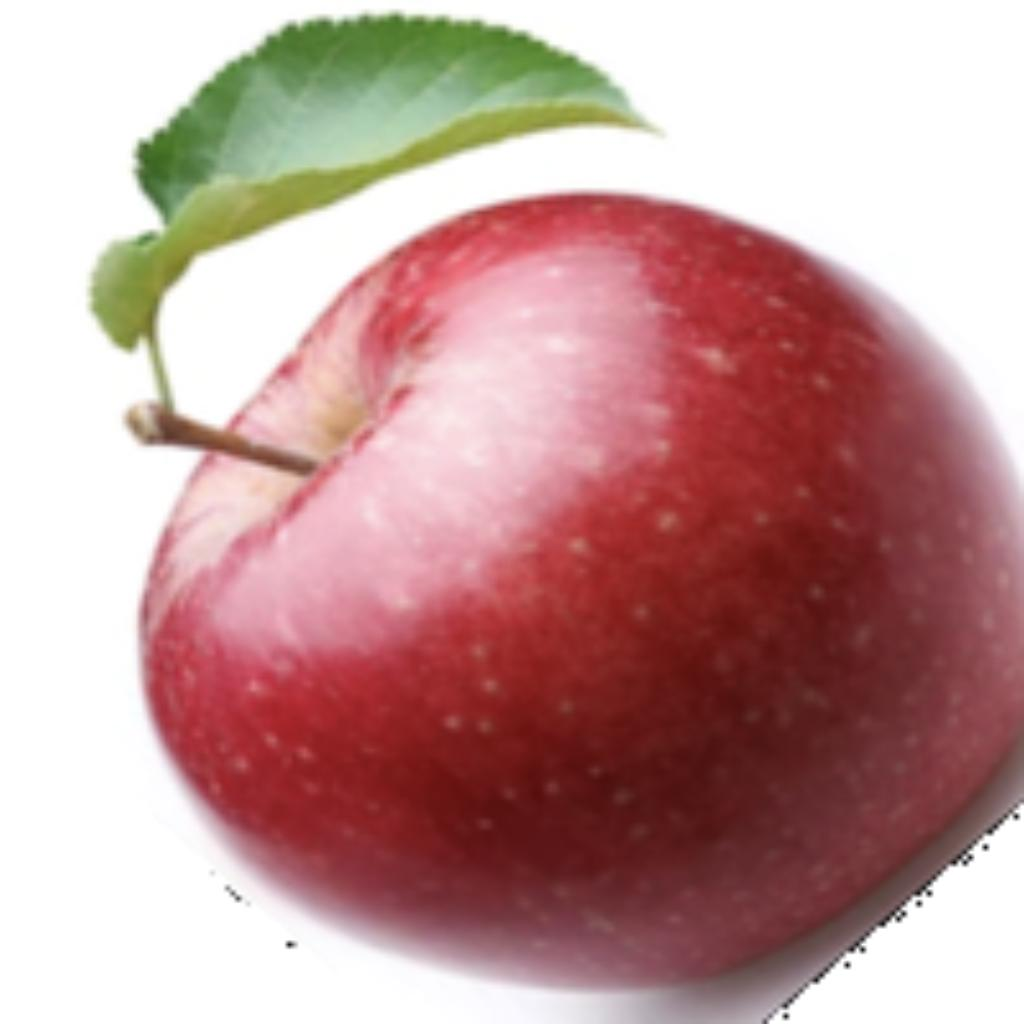apple: (82, 5, 1019, 1019)
